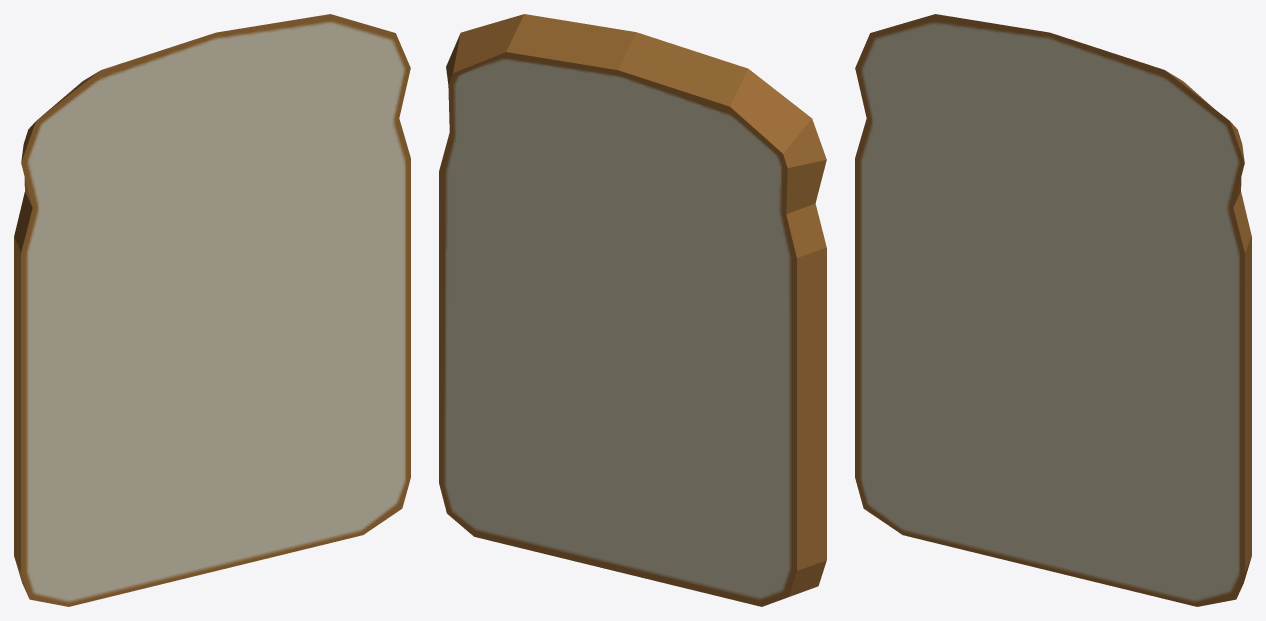
File: Bread_Piece_3_Middle_2nd_MDL.fbx
The picture shows the model from 3 angles, left to right: view 1: azimuth 30°, elevation 25°; view 2: azimuth 150°, elevation 25°; view 3: azimuth 330°, elevation 25°; orthographic projection. The views are drawn at different scales.
Visible parts, largest first — view 1: bread_middle_to_end_1; view 2: bread_middle_to_end_1; view 3: bread_middle_to_end_1.
Part boxes in pixels (left/top/right/bottom): bread_middle_to_end_1: left=14, top=14, right=410, bottom=606; bread_middle_to_end_1: left=439, top=14, right=826, bottom=606; bread_middle_to_end_1: left=855, top=14, right=1251, bottom=606.
Bounding box in the file's own units: 17 × 22.45 × 1.42.
